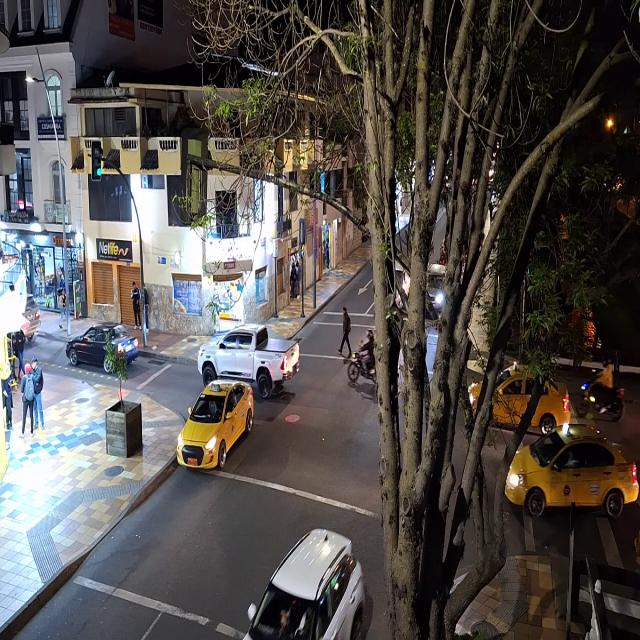CMT: (196, 324, 297, 389)
MOTORCYCLE: (346, 351, 377, 385)
SED: (507, 432, 637, 512), (468, 363, 566, 428), (181, 384, 249, 467), (65, 327, 138, 373)
